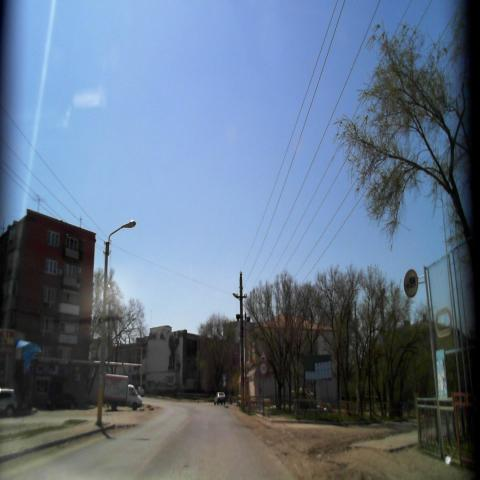3_4_1: (404, 269, 418, 299)
